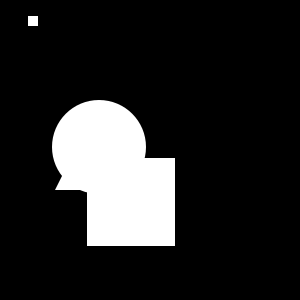circle: (87, 158, 175, 246), (28, 16, 38, 26)
rectangle: (52, 100, 146, 194)
triangle: (55, 146, 99, 190)
